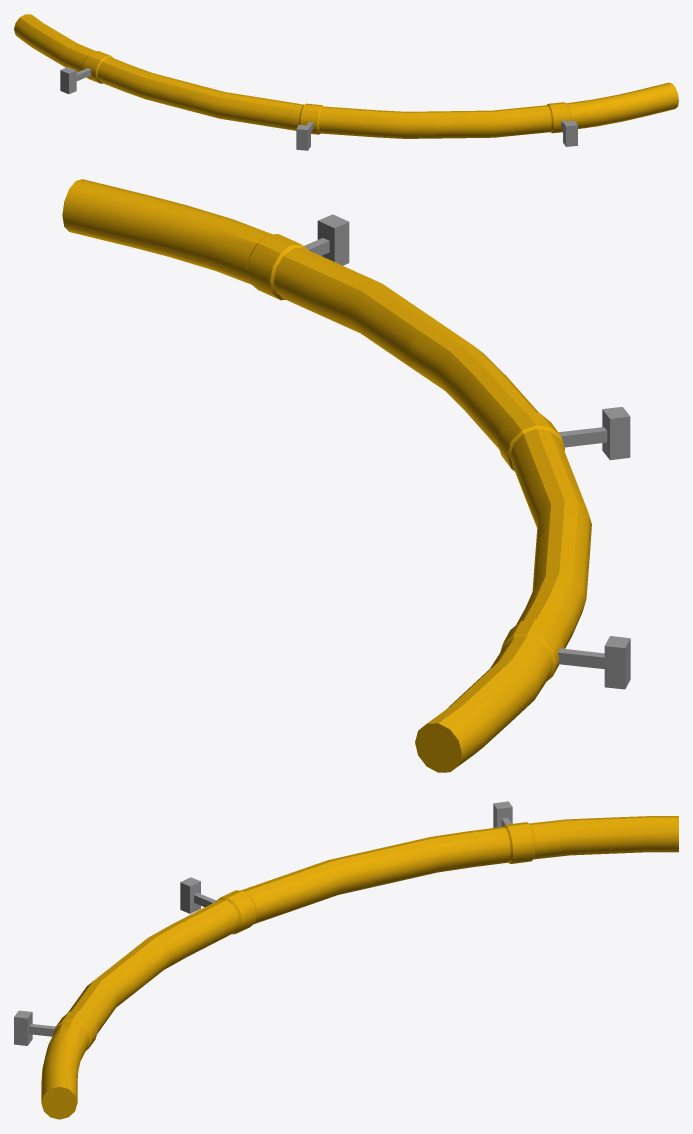
Rendered from RailTubeConcav.fbx.
3 views of the same model, one above another, from view 1: azimuth 30°, elevation 25°; view 2: azimuth 150°, elevation 25°; view 3: azimuth 270°, elevation 25° (orthographic). The views are drawn at different scales.
Parts seen in each view (by area): view 1: RailTubeConcav; view 2: RailTubeConcav; view 3: RailTubeConcav.
Part boxes in pixels (<box>): RailTubeConcav: <box>14,14,678,150</box>; RailTubeConcav: <box>62,179,630,772</box>; RailTubeConcav: <box>14,801,678,1119</box>.
Bounding box in the file's own units: 198 × 11.55 × 193.
